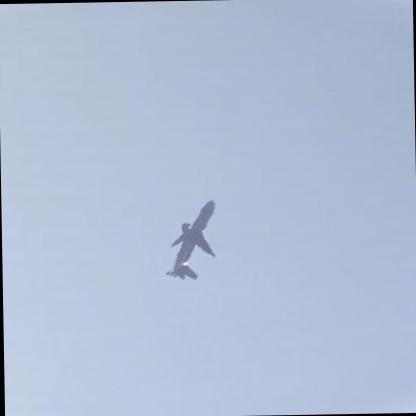plane: (163, 199, 223, 282)
